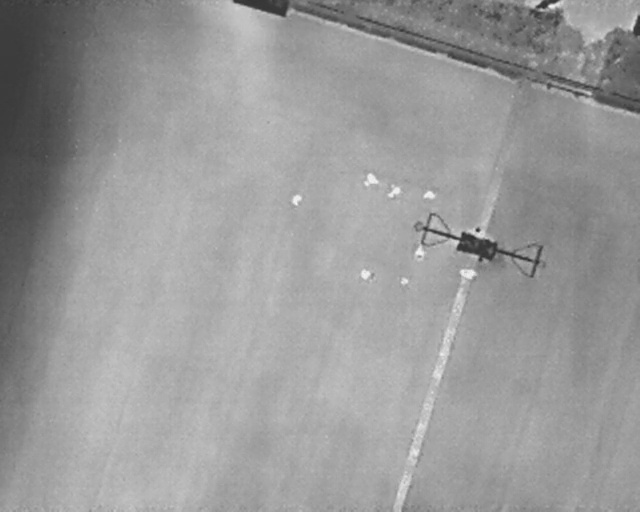Person: (456, 265, 479, 282), (385, 182, 404, 201), (468, 224, 487, 241), (413, 243, 426, 262), (363, 172, 379, 186), (358, 269, 373, 281), (423, 189, 435, 200), (291, 195, 302, 206), (399, 276, 410, 286)
